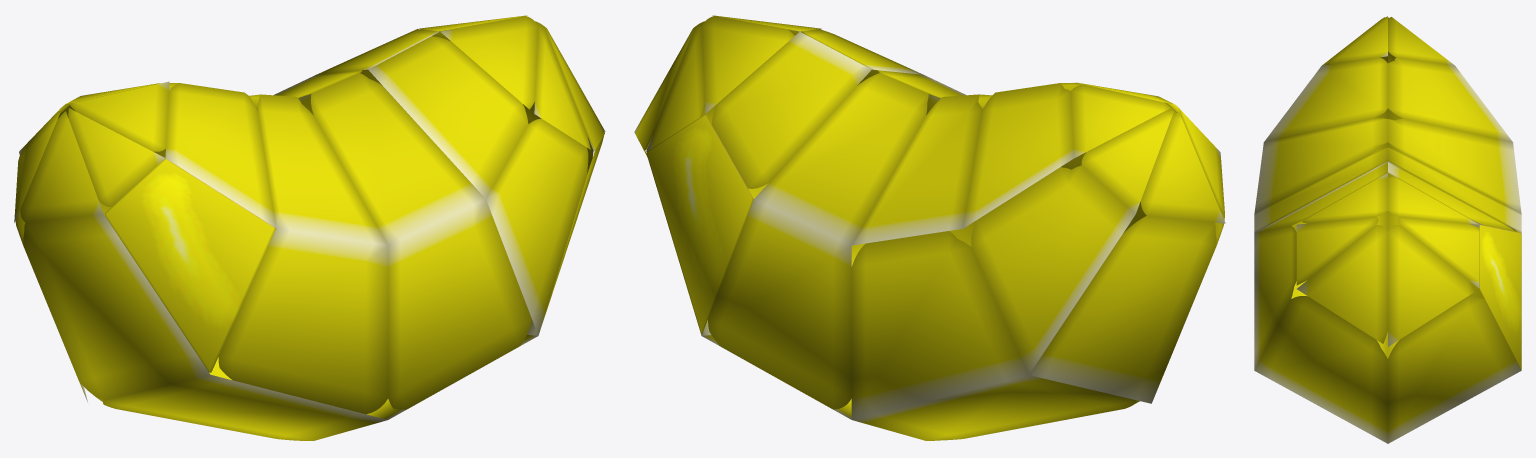
3 views of the same model, side by side, from view 1: azimuth 30°, elevation 25°; view 2: azimuth 150°, elevation 25°; view 3: azimuth 270°, elevation 25° (orthographic). The views are drawn at different scales.
Visible parts, largest first — view 1: T1L1M001_24; view 2: T1L1M001_24; view 3: T1L1M001_24.
Boxes of the visible parts, bbox=[...] form: T1L1M001_24: bbox=[14, 15, 605, 440]; T1L1M001_24: bbox=[634, 15, 1225, 440]; T1L1M001_24: bbox=[1254, 16, 1521, 443].
Bounding box in the file's own units: 0.5615 × 0.3604 × 0.2793.
Materials: 1 (1 with a texture image).
